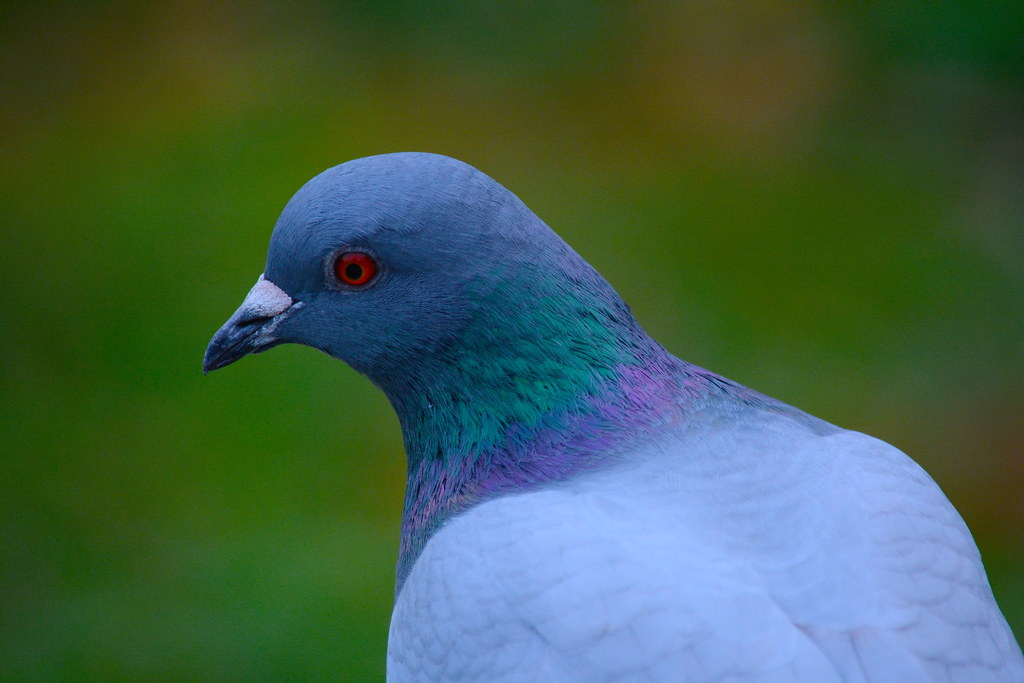pigeon: (197, 139, 1019, 683)
